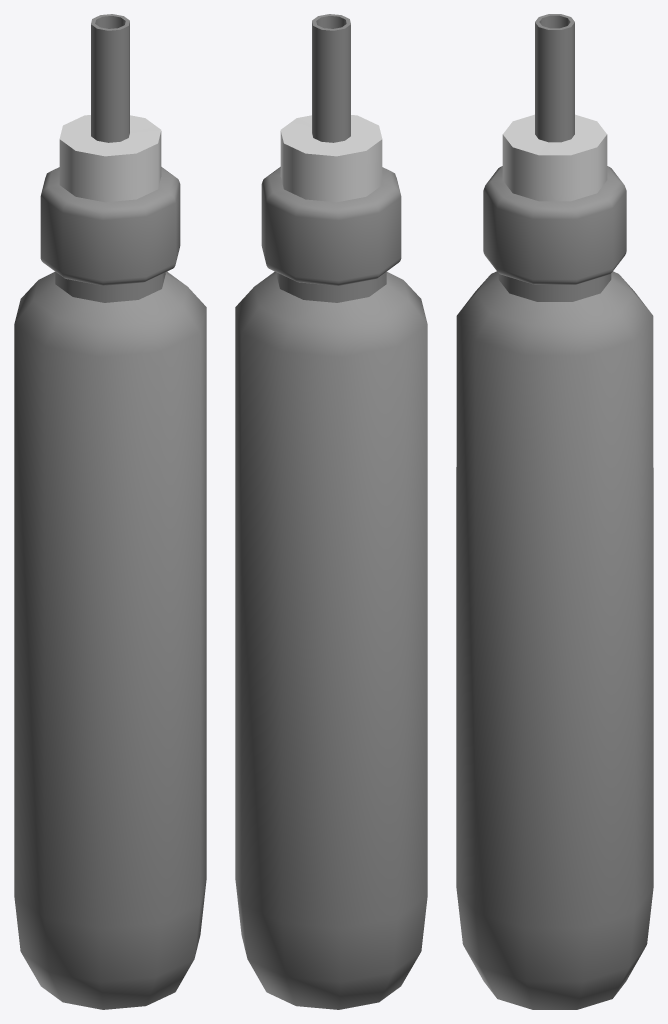
Rendered from SM_水解管.FBX.
3 views of the same model, side by side, from view 1: azimuth 30°, elevation 25°; view 2: azimuth 150°, elevation 25°; view 3: azimuth 270°, elevation 25° (orthographic).
Visible parts, largest first — view 1: SM_水解管_瓶体, SM_水解管_盖子; view 2: SM_水解管_瓶体, SM_水解管_盖子; view 3: SM_水解管_瓶体, SM_水解管_盖子.
Part boxes in pixels (box(x1,y1,x2,y2)): SM_水解管_瓶体: box(14, 167, 206, 1009); SM_水解管_盖子: box(59, 14, 161, 202); SM_水解管_瓶体: box(235, 167, 427, 1009); SM_水解管_盖子: box(280, 14, 382, 202); SM_水解管_瓶体: box(456, 166, 653, 1009); SM_水解管_盖子: box(502, 14, 607, 201).
Size of the model in its own units: 12.69 by 72.63 by 13.34.
